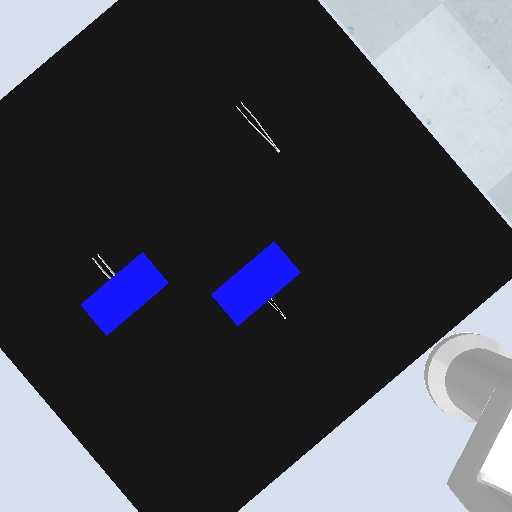pinza: (231, 98, 283, 156), (89, 251, 117, 282), (264, 296, 289, 324)
